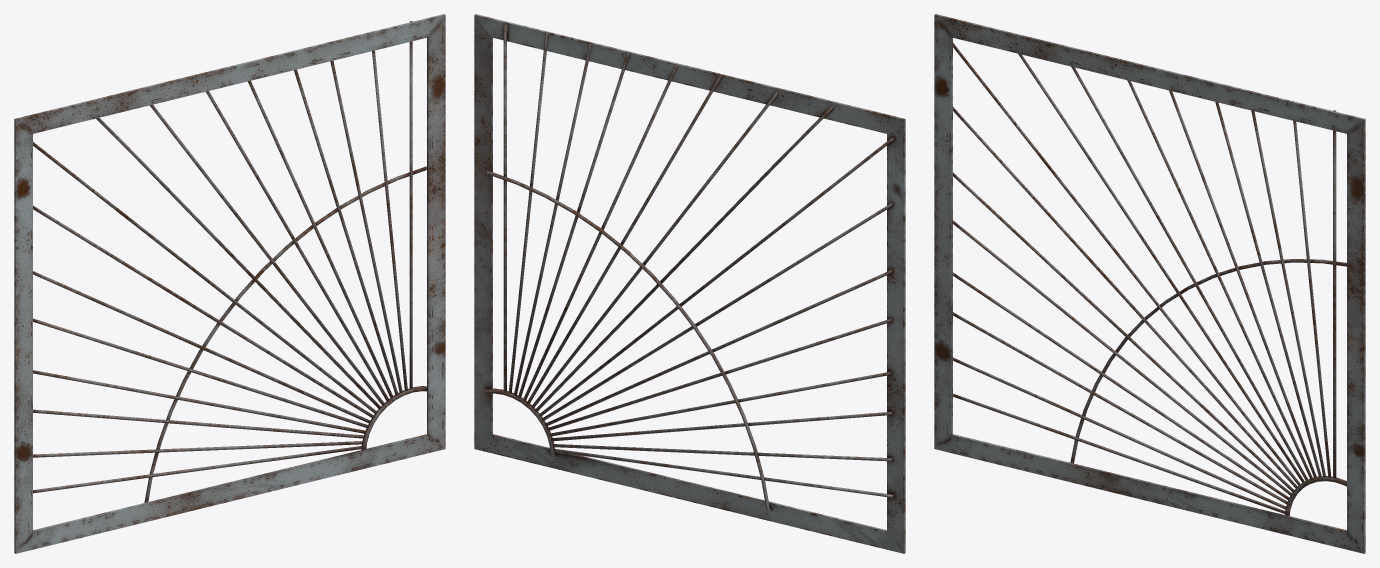
File: SM_WindowNarrowCage01.FBX
3 views of the same model, side by side, from view 1: azimuth 30°, elevation 25°; view 2: azimuth 150°, elevation 25°; view 3: azimuth 330°, elevation 25° (orthographic).
Visible parts, largest first — view 1: SM_WindowNarrowCage01_LOD0; view 2: SM_WindowNarrowCage01_LOD0; view 3: SM_WindowNarrowCage01_LOD0.
Boxes of the visible parts, box(x1,y1,x2,y2) form: SM_WindowNarrowCage01_LOD0: box(14, 14, 445, 553); SM_WindowNarrowCage01_LOD0: box(474, 14, 905, 553); SM_WindowNarrowCage01_LOD0: box(934, 14, 1365, 553).
Size of the model in its own units: 140 by 2.5 by 135.
